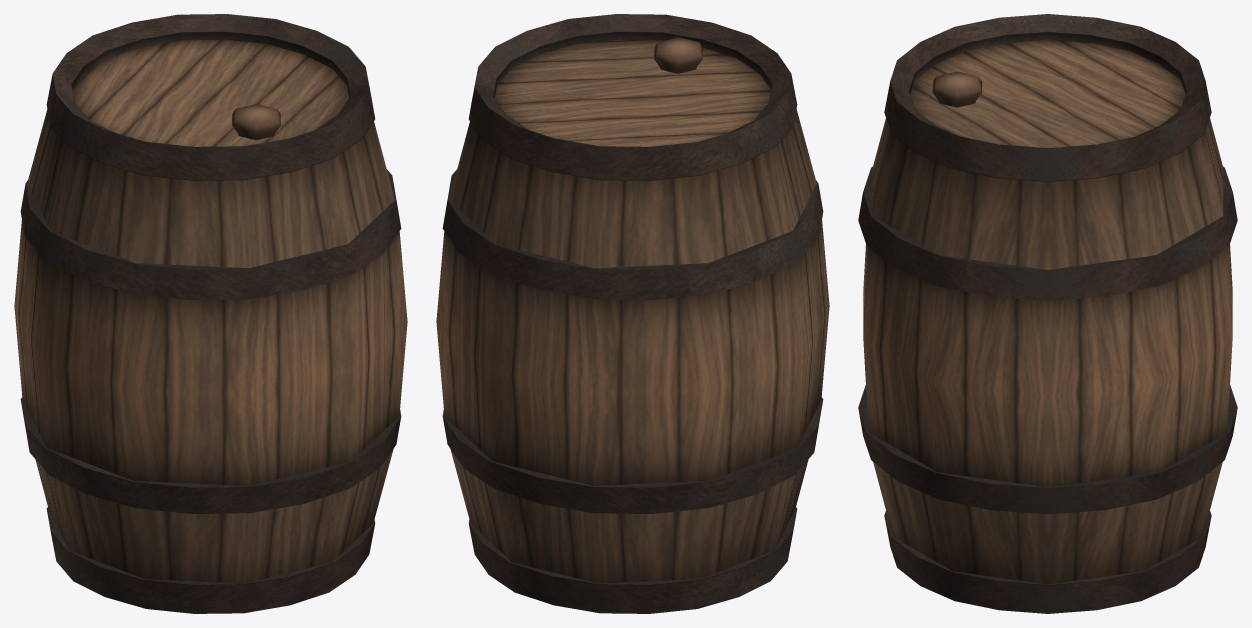
Rendered from barrel.fbx.
The picture shows the model from 3 angles, left to right: view 1: azimuth 30°, elevation 25°; view 2: azimuth 150°, elevation 25°; view 3: azimuth 270°, elevation 25°; orthographic projection.
Visible parts, largest first — view 1: barrel_Mesh_001; view 2: barrel_Mesh_001; view 3: barrel_Mesh_001.
Boxes of the visible parts, x1,y1,x2,y2 form: barrel_Mesh_001: (14,14,407,613); barrel_Mesh_001: (436,14,829,613); barrel_Mesh_001: (858,14,1237,613).
Bounding box in the file's own units: 70.06 × 91.28 × 67.
